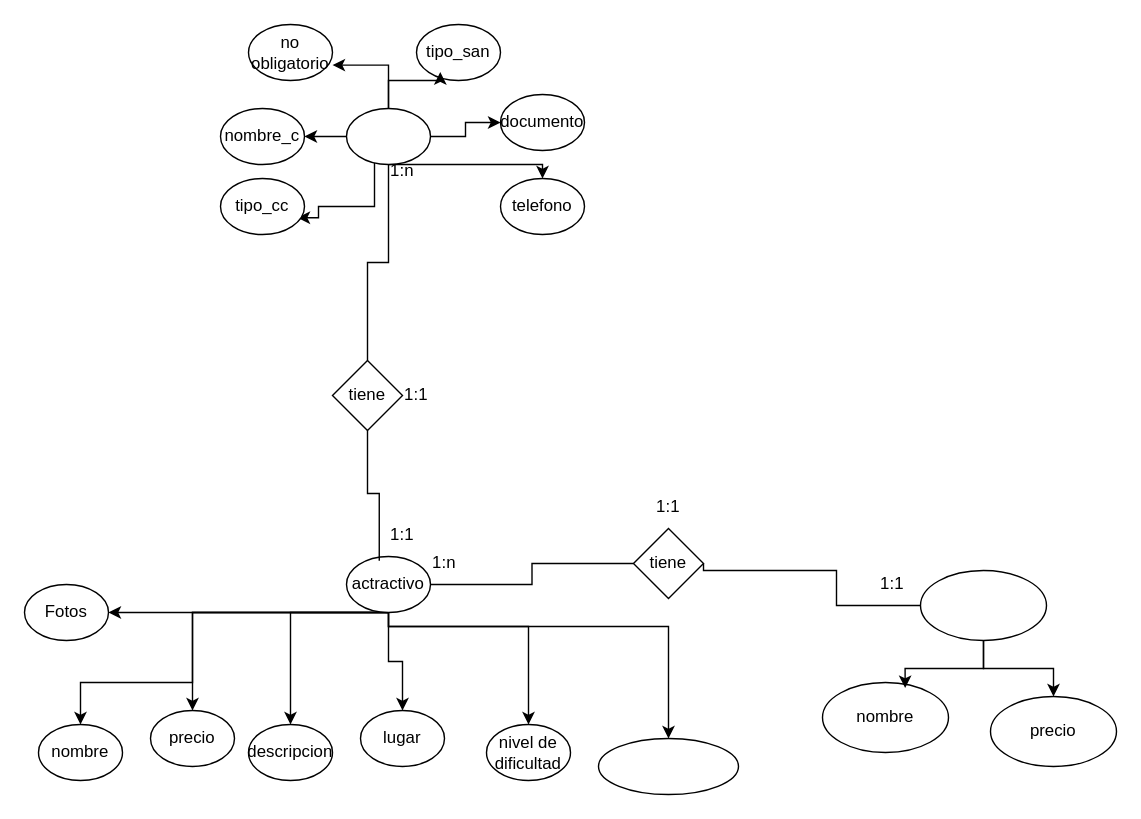
Image size: 1141x819. Some labels were removed from this diagram. Each missing label, with the centre of its shape:
"alimentacion" belongs at point 982,604.
"precondicion" belongs at point 667,765.
"usuario" belongs at point 387,135.
